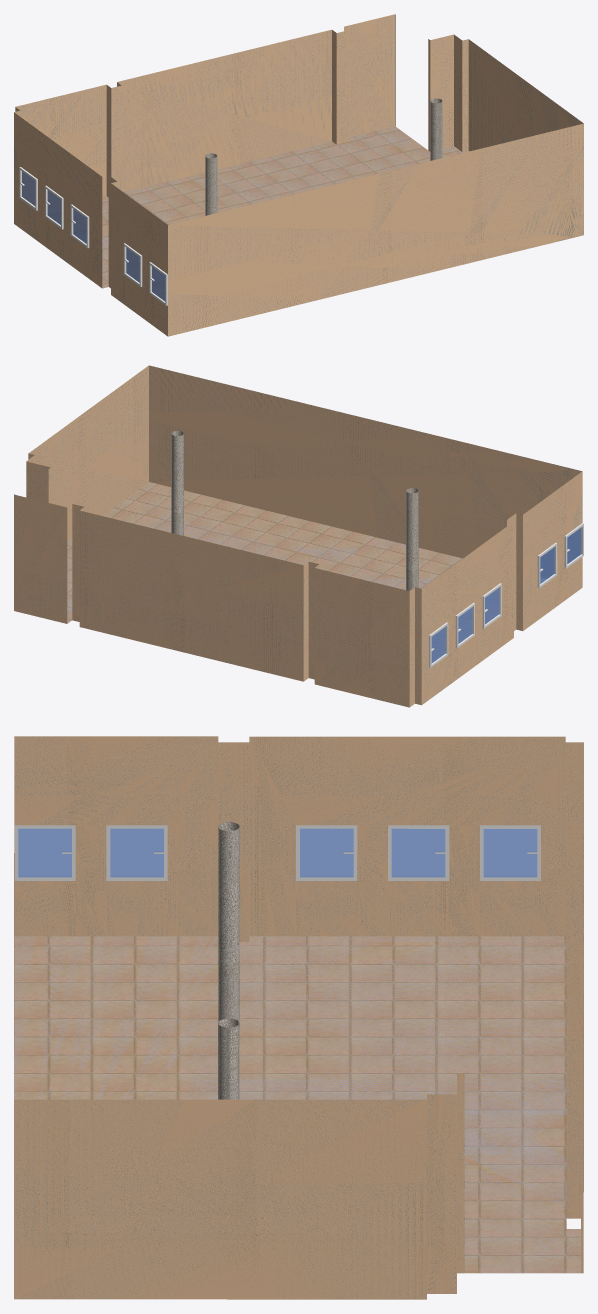
The model's file is AUL025.obj.
The picture shows the model from 3 angles, top to bottom: view 1: azimuth 30°, elevation 25°; view 2: azimuth 150°, elevation 25°; view 3: azimuth 270°, elevation 25°; orthographic projection. The views are drawn at different scales.
Visible parts, largest first — view 1: Mesh16 AUL025 Model, Mesh7 ventana3_1_3 AUL025 Model, Mesh10 ventana3_1_4 AUL025 Model, Mesh4 ventana3_1_2 AUL025 Model, Mesh13 ventana3_1_5 AUL025 Model, Mesh1 ventana3_1_1 AUL025 Model; view 2: Mesh16 AUL025 Model, Mesh10 ventana3_1_4 AUL025 Model, Mesh7 ventana3_1_3 AUL025 Model, Mesh13 ventana3_1_5 AUL025 Model, Mesh4 ventana3_1_2 AUL025 Model, Mesh1 ventana3_1_1 AUL025 Model; view 3: Mesh16 AUL025 Model, Mesh4 ventana3_1_2 AUL025 Model, Mesh7 ventana3_1_3 AUL025 Model, Mesh10 ventana3_1_4 AUL025 Model, Mesh13 ventana3_1_5 AUL025 Model, Mesh1 ventana3_1_1 AUL025 Model.
Part boxes in pixels (x1,y1,x2,y2): Mesh16 AUL025 Model: (14,14,583,336); Mesh7 ventana3_1_3 AUL025 Model: (70,204,89,248); Mesh10 ventana3_1_4 AUL025 Model: (123,243,142,286); Mesh4 ventana3_1_2 AUL025 Model: (45,185,63,229); Mesh13 ventana3_1_5 AUL025 Model: (149,262,167,305); Mesh1 ventana3_1_1 AUL025 Model: (19,167,37,210); Mesh16 AUL025 Model: (14,365,582,707); Mesh10 ventana3_1_4 AUL025 Model: (537,542,557,588); Mesh7 ventana3_1_3 AUL025 Model: (482,583,501,628); Mesh13 ventana3_1_5 AUL025 Model: (564,523,583,568); Mesh4 ventana3_1_2 AUL025 Model: (455,602,474,648); Mesh1 ventana3_1_1 AUL025 Model: (429,622,448,667); Mesh16 AUL025 Model: (14,736,583,1299); Mesh4 ventana3_1_2 AUL025 Model: (388,825,449,880); Mesh7 ventana3_1_3 AUL025 Model: (296,825,357,880); Mesh10 ventana3_1_4 AUL025 Model: (106,825,167,880); Mesh13 ventana3_1_5 AUL025 Model: (14,825,75,880); Mesh1 ventana3_1_1 AUL025 Model: (480,825,540,880).
Bounding box in the file's own units: 14.08 × 3.6 × 9.3.
6 materials, 2 textured.
